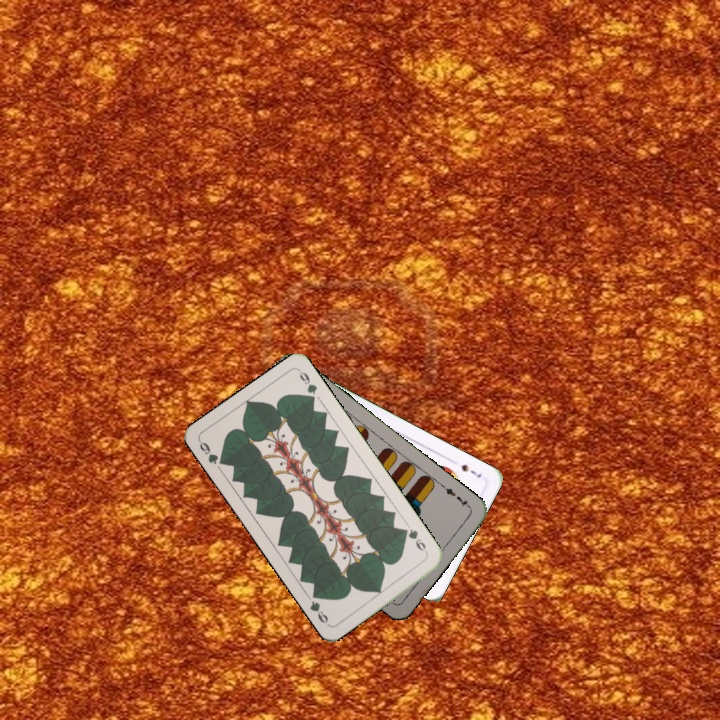E7: (438, 481, 473, 511)
G9: (399, 524, 431, 557), (195, 437, 229, 468)
S7: (457, 460, 484, 480)
